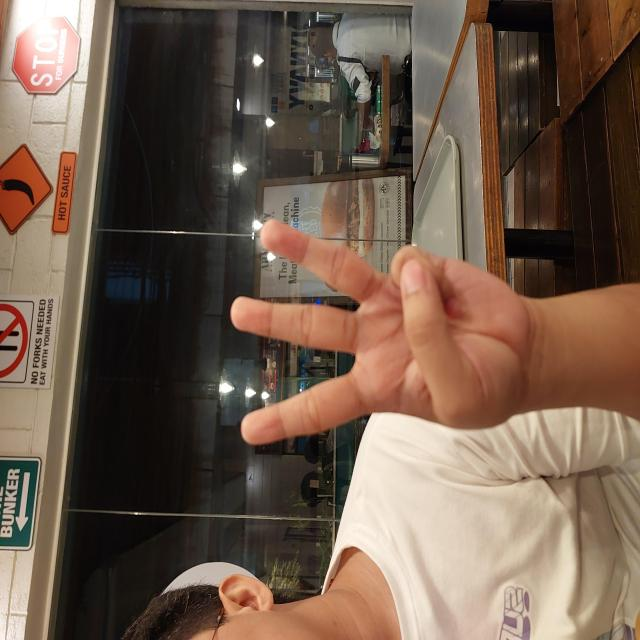W: (192, 228, 422, 533)
